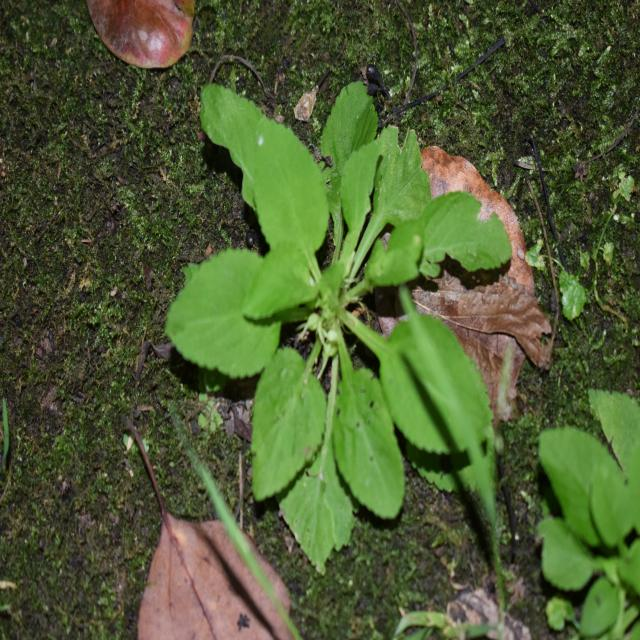Viola: (197, 72, 487, 517)
